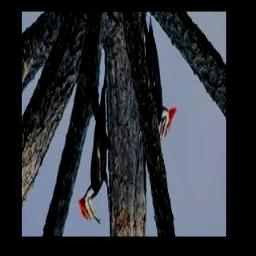Woodpecker: (79, 76, 111, 224), (144, 18, 177, 152)
